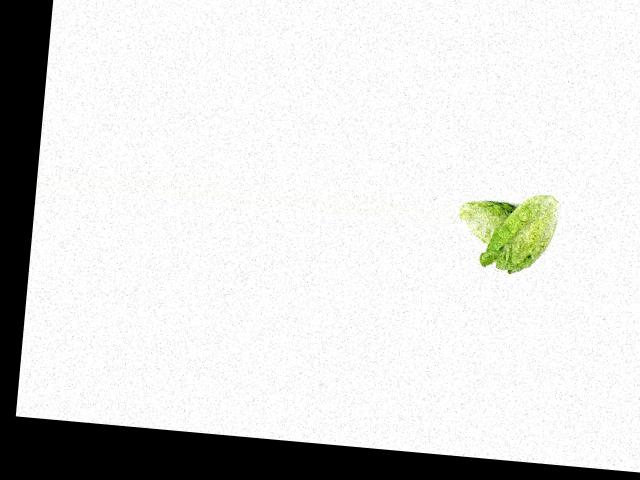lettuce: (454, 193, 517, 248)
